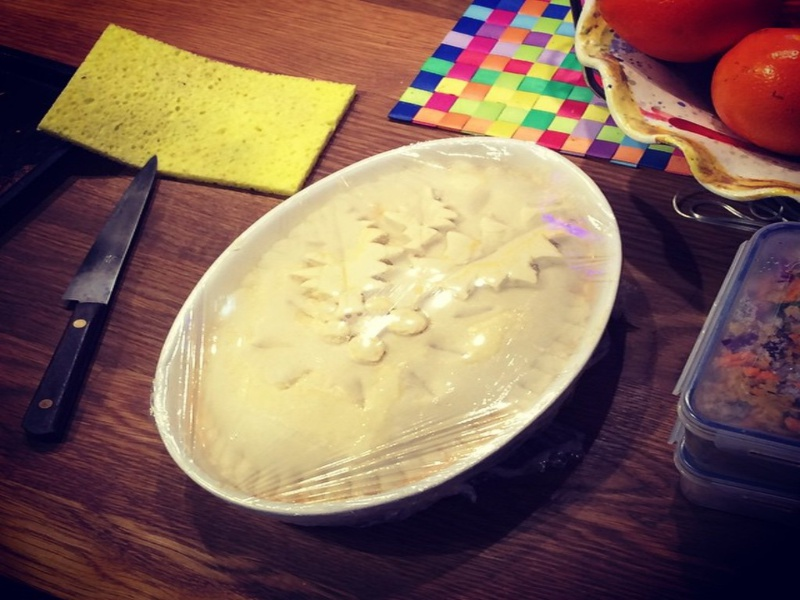knife: (19, 153, 159, 442)
